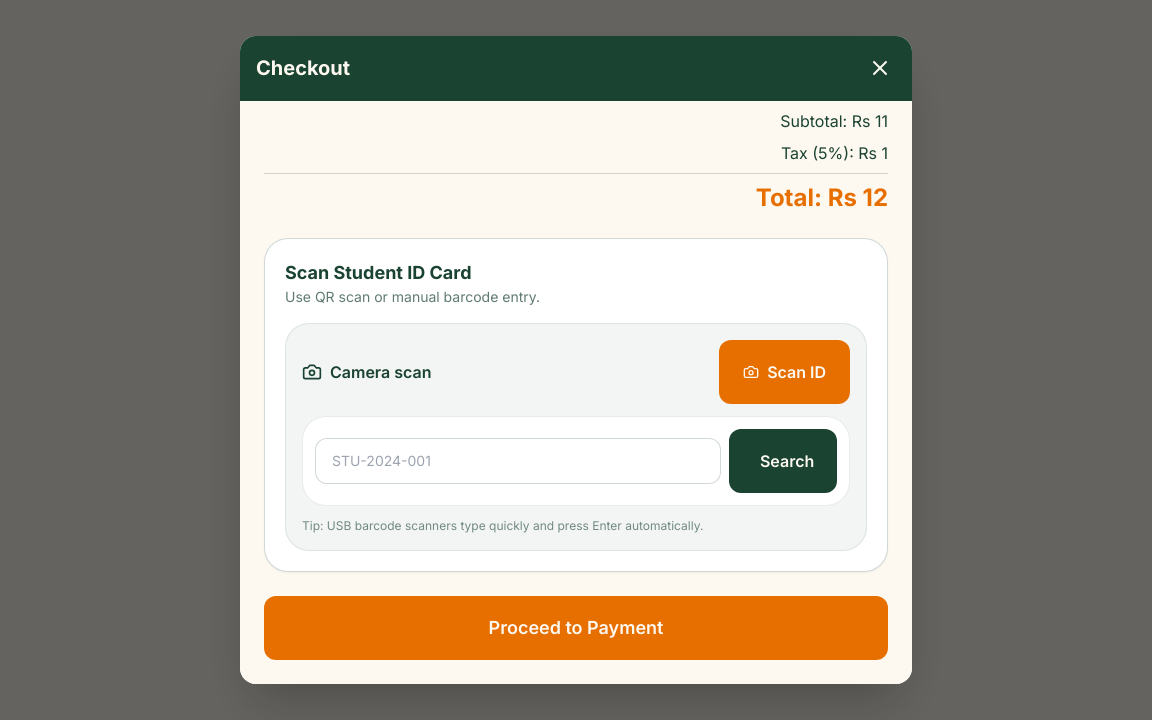
Test case: CheckoutModal › renders payment method selection after clicking Proceed
This screenshot has width=1152, height=720.
(page scrolled)
Click the button "Proceed to Payment" at (576, 628), box [264,596,888,660]
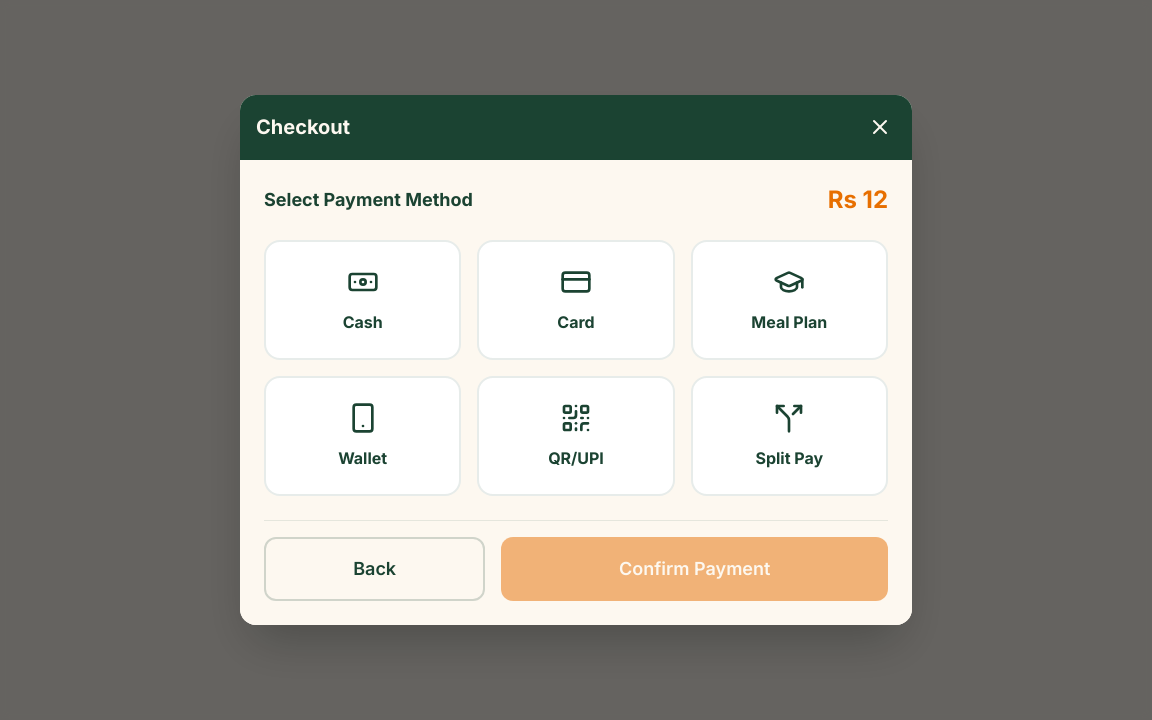
Result: the heading "Select Payment Method" is shown at [264,186,473,214]
